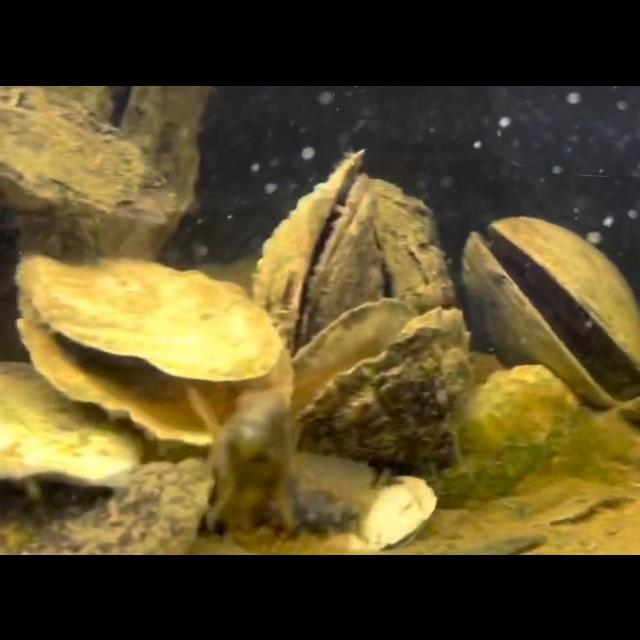Oyster-Closed: (0, 86, 172, 226), (416, 365, 574, 501), (0, 454, 212, 554), (0, 362, 140, 494), (361, 178, 451, 318)
Oyster-Open: (8, 255, 290, 449), (456, 215, 640, 411), (277, 299, 468, 479), (39, 85, 203, 262), (242, 150, 380, 360), (338, 479, 434, 553)
